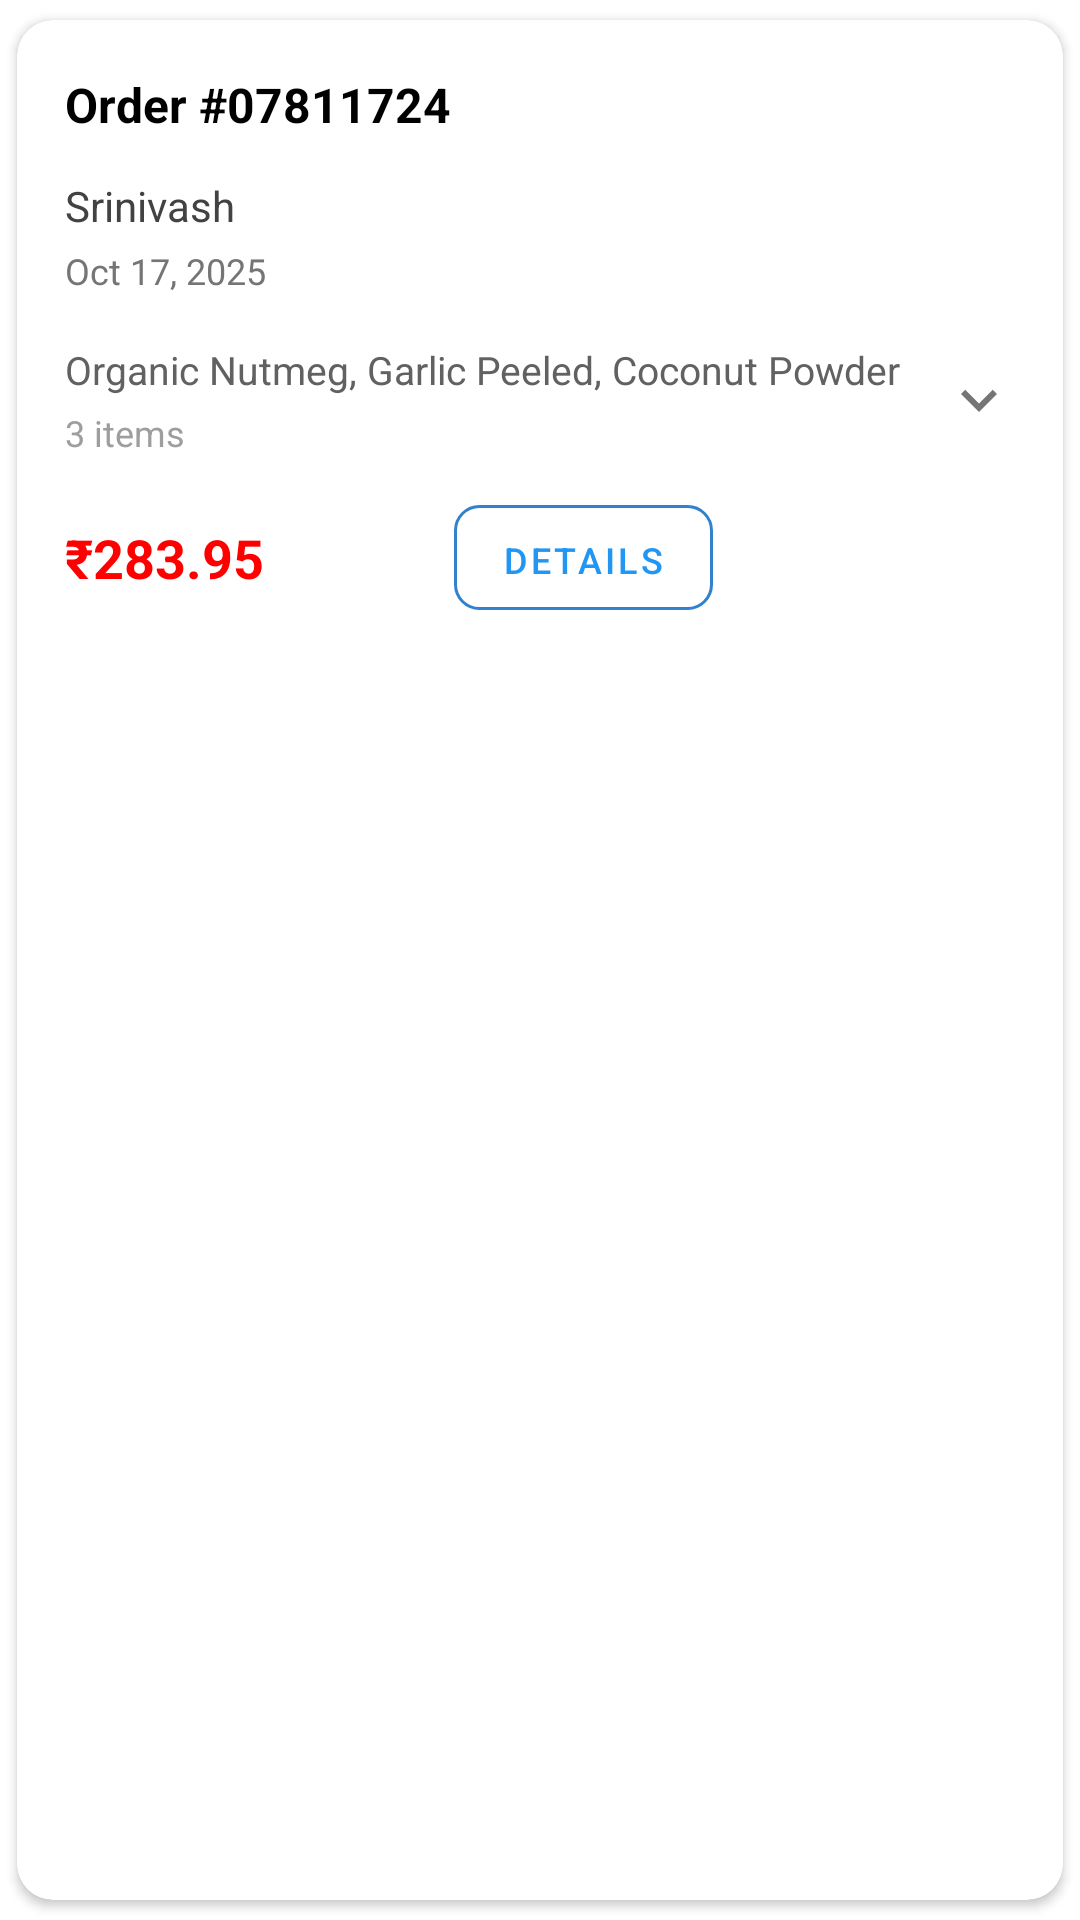

Point at icon controls on the screen. Image size 1080×1920, points as (x=x, y=y).
Expand: (x=979, y=401)
